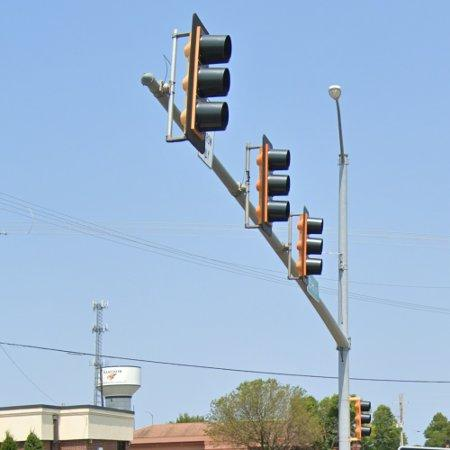traffic lights: (186, 14, 233, 154), (256, 134, 290, 228), (296, 207, 324, 280)
